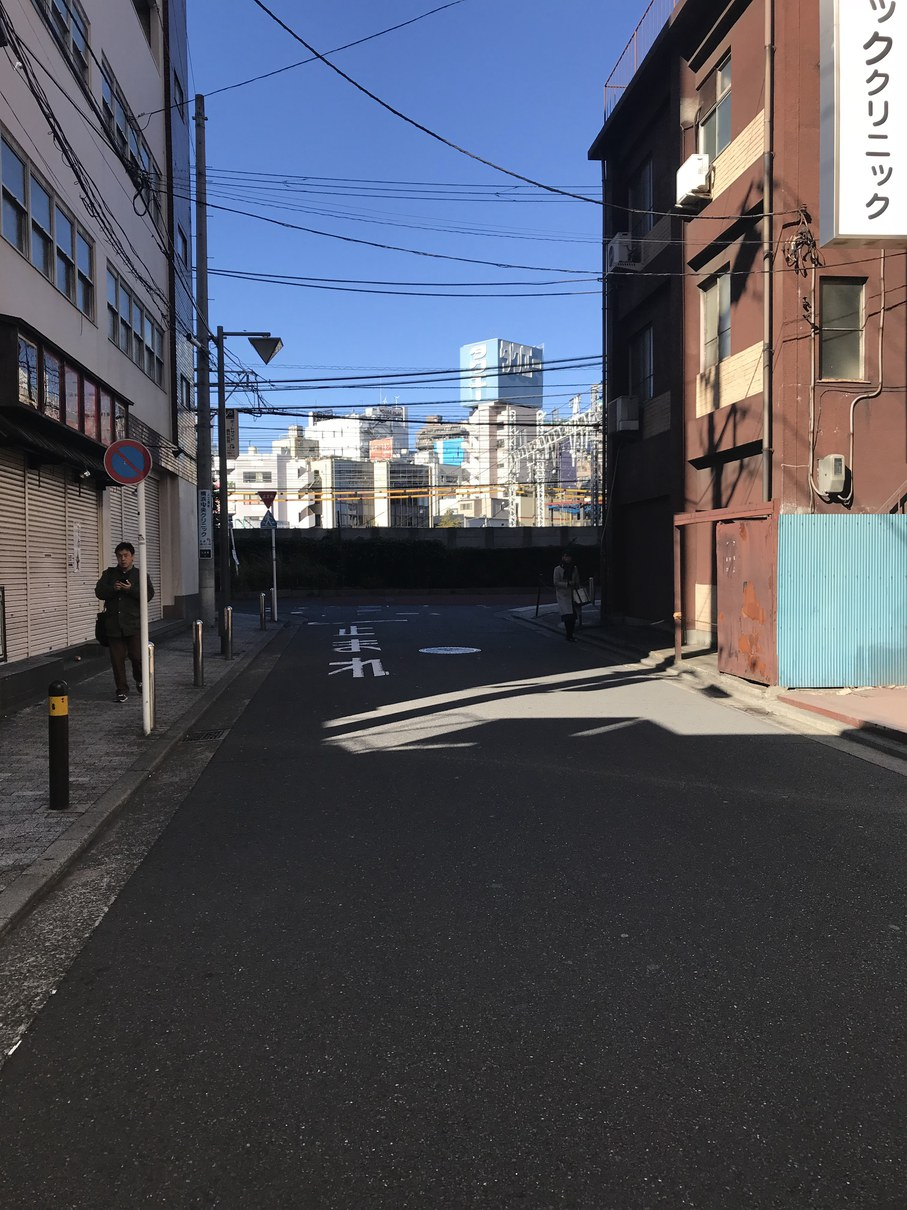stop_sign: (256, 489, 277, 509)
